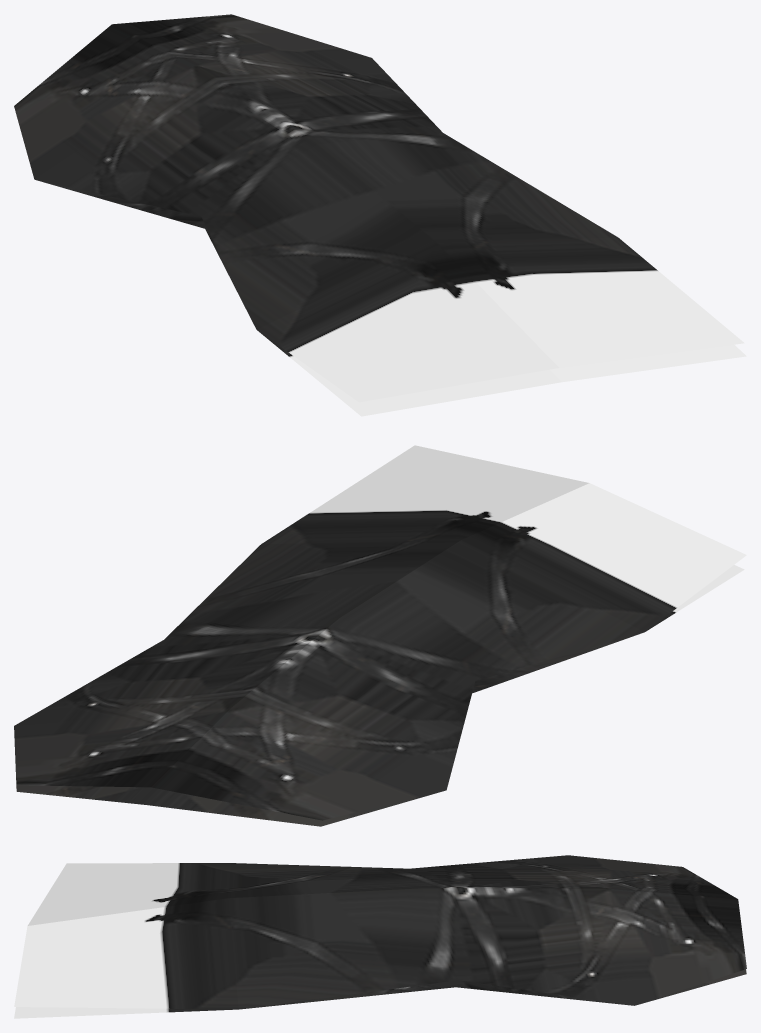
File: Harness_Ground.fbx
3 renders of one model, top to bottom at view 1: azimuth 30°, elevation 25°; view 2: azimuth 150°, elevation 25°; view 3: azimuth 270°, elevation 25°, orthographic. The views are drawn at different scales.
Visible parts, largest first — view 1: G_Harness; view 2: G_Harness; view 3: G_Harness.
Boxes of the visible parts, x1=… form: G_Harness: x1=14, y1=14, x2=746, y2=416; G_Harness: x1=14, y1=445, x2=746, y2=826; G_Harness: x1=14, y1=855, x2=746, y2=1018.
Size of the model in its own units: 0.1909 by 0.0347 by 0.3893.
